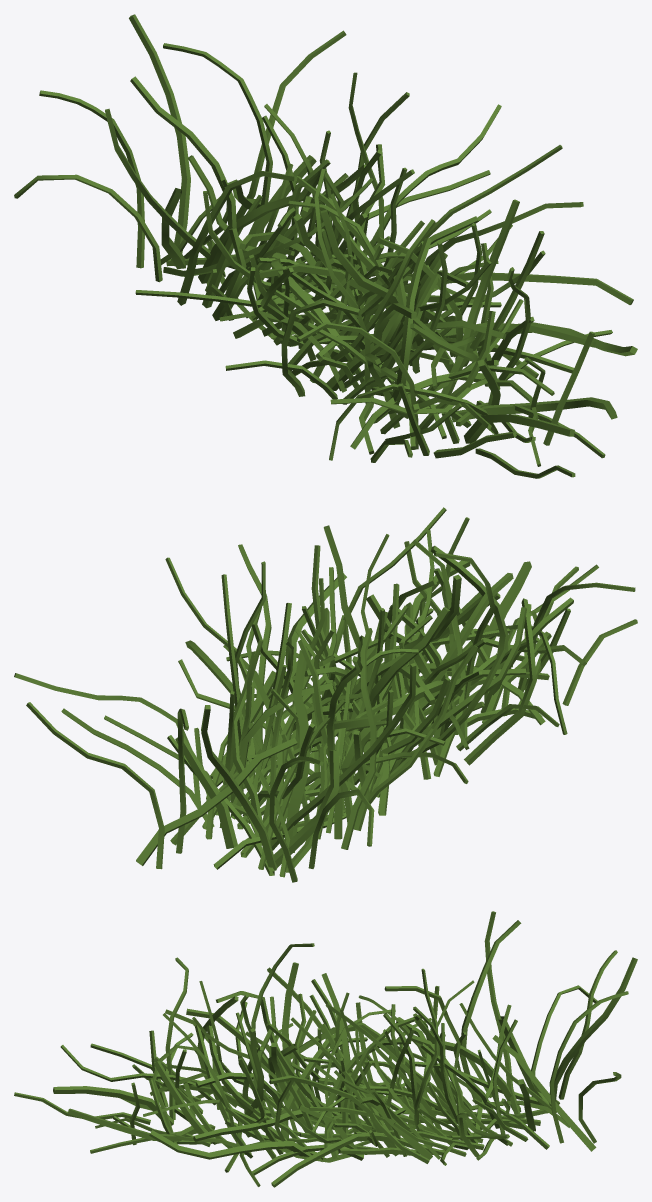
The model's file is plant_swamp_grass_short_quadruated_A.fbx.
3 views of the same model, one above another, from view 1: azimuth 30°, elevation 25°; view 2: azimuth 150°, elevation 25°; view 3: azimuth 270°, elevation 25° (orthographic). The views are drawn at different scales.
Parts seen in each view (by area): view 1: plant_swamp_grass_short_quadruated_A; view 2: plant_swamp_grass_short_quadruated_A; view 3: plant_swamp_grass_short_quadruated_A.
Part boxes in pixels (<box>): plant_swamp_grass_short_quadruated_A: <box>14,14,637,478</box>; plant_swamp_grass_short_quadruated_A: <box>14,507,637,882</box>; plant_swamp_grass_short_quadruated_A: <box>14,911,637,1187</box>.
Size of the model in its own units: 346 by 196 by 580.
